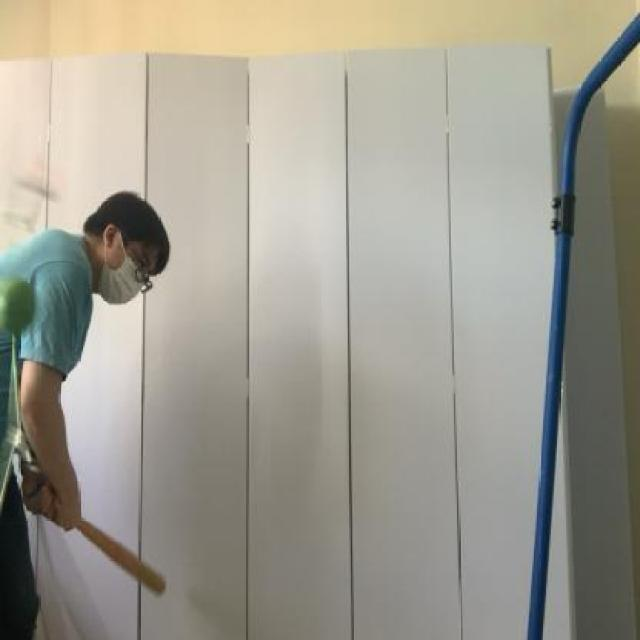baseball: (0, 272, 51, 342)
